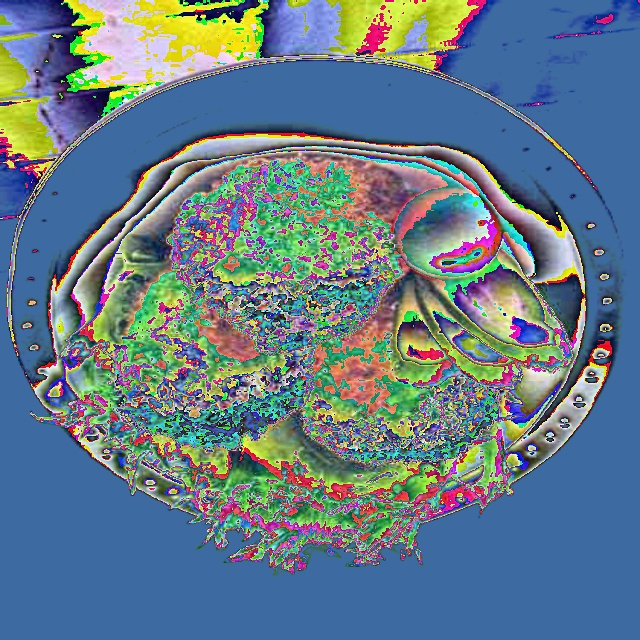background: (31, 152, 575, 577)
